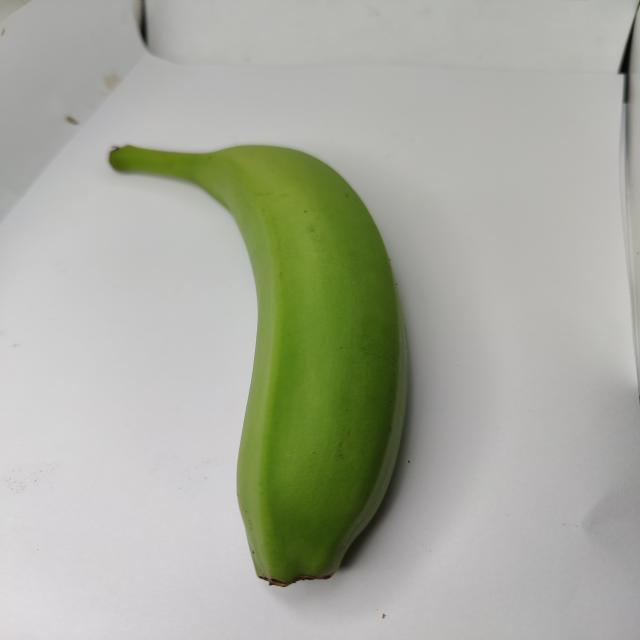raw: (53, 83, 433, 600)
